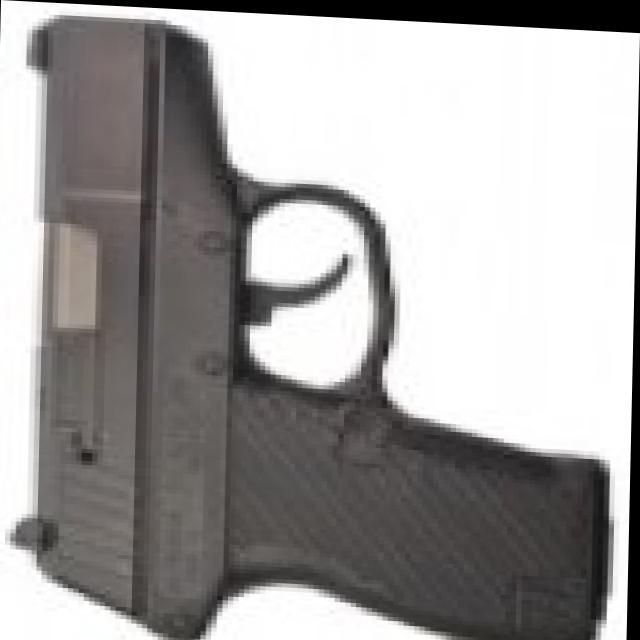handgun: (11, 41, 613, 640)
